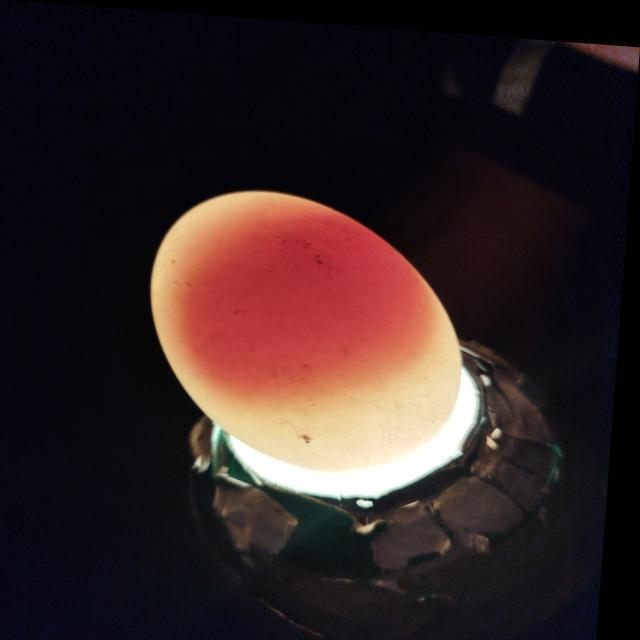Gema Quebrada: (181, 211, 408, 373)
